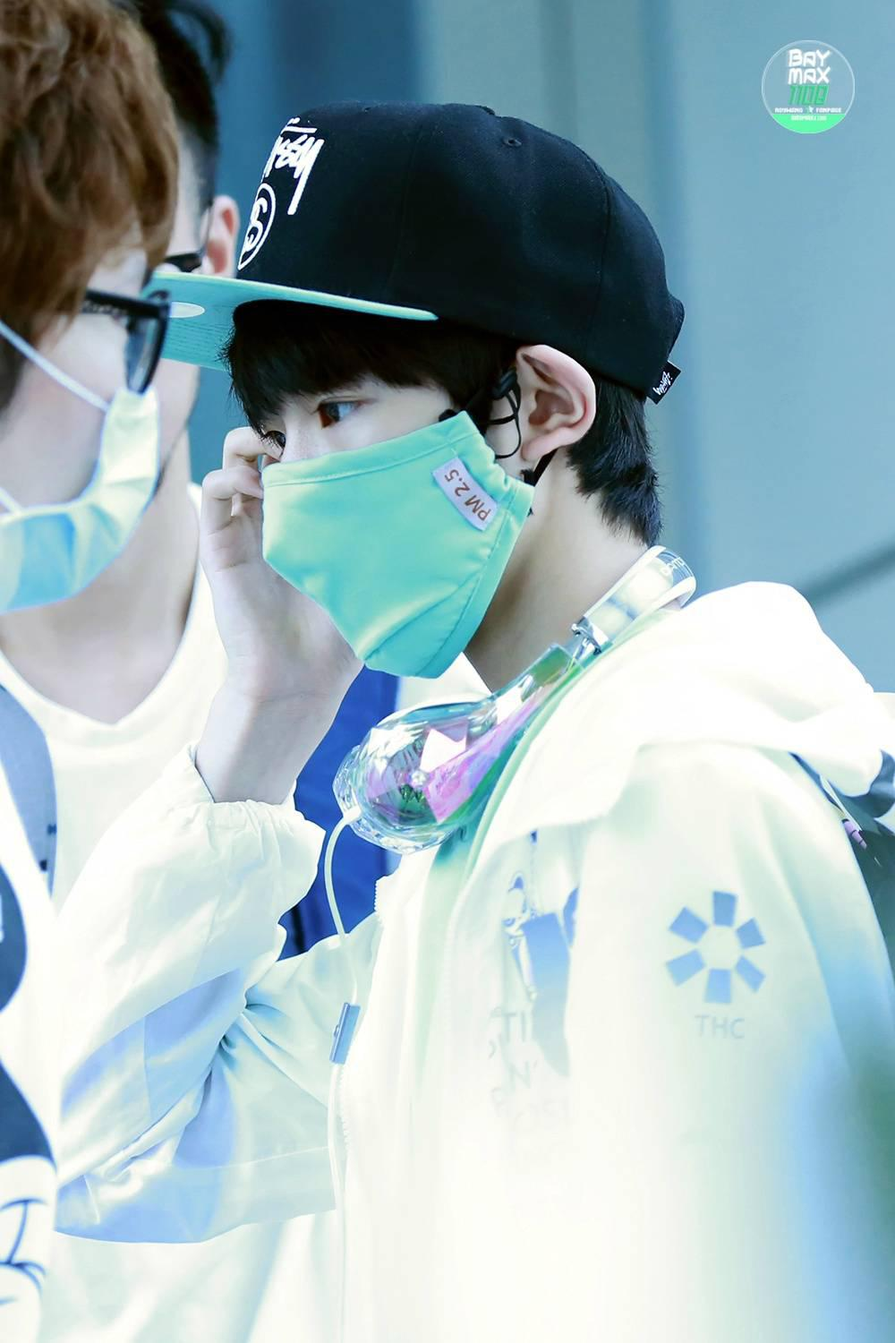OK: (252, 385, 517, 650), (1, 276, 181, 601)
